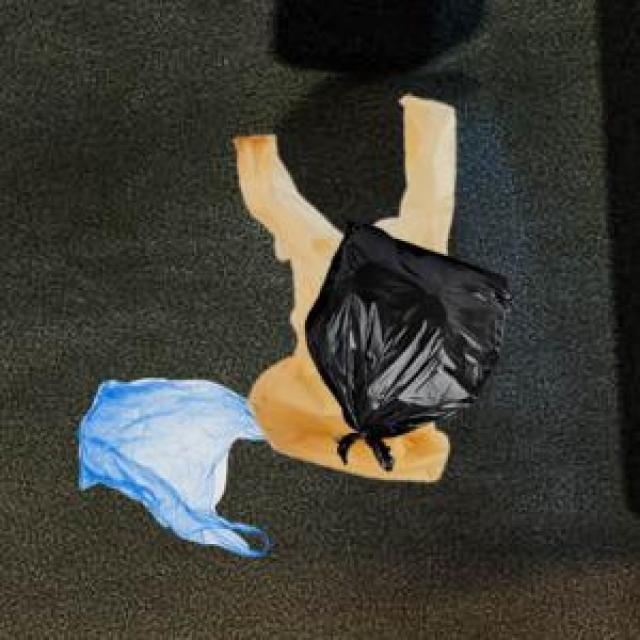miscellaneous trash: (301, 218, 510, 467)
